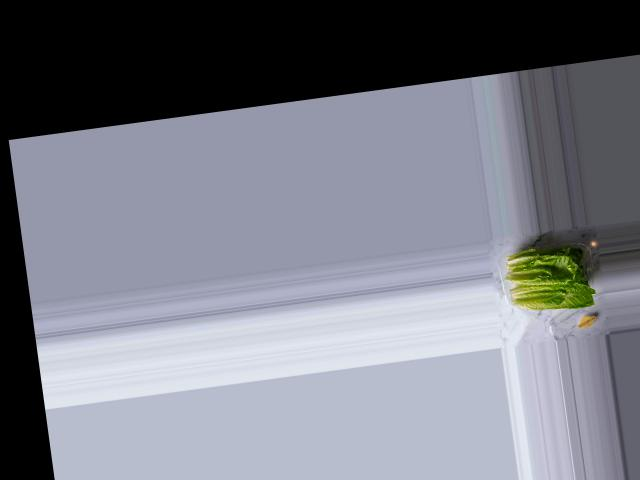lettuce: (501, 238, 598, 320)
